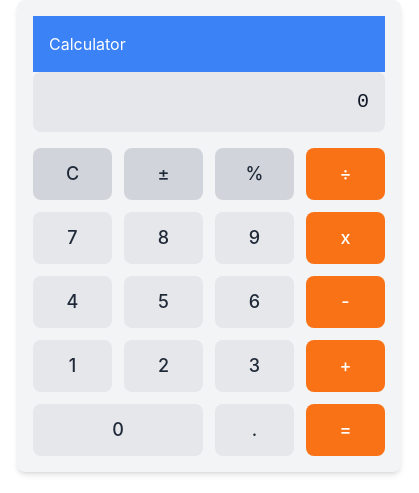
Test: Calculator › should divide two numbers correctly
This screenshot has width=419, height=493.
Step 1. Click the button "8" → (164, 238), box x1=124 y1=212 x2=203 y2=264
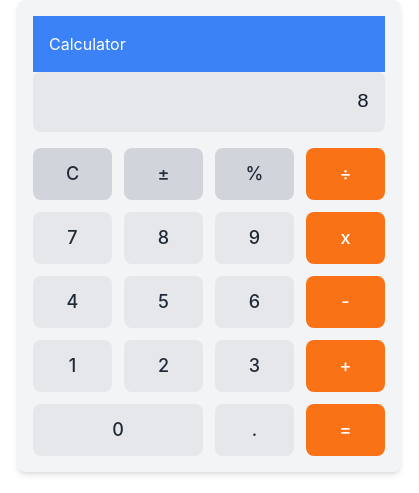
Step 2. Click the button "÷" → (346, 174), box x1=306 y1=148 x2=385 y2=200
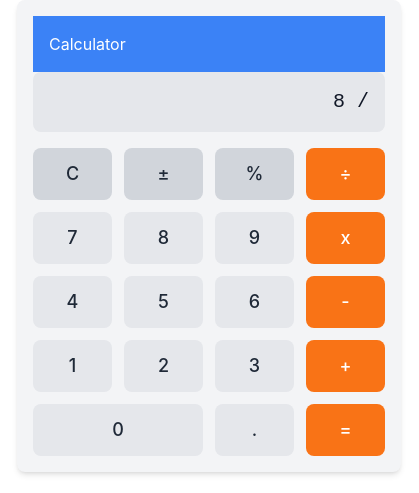
Step 3. Click the button "2" → (164, 366), box x1=124 y1=340 x2=203 y2=392
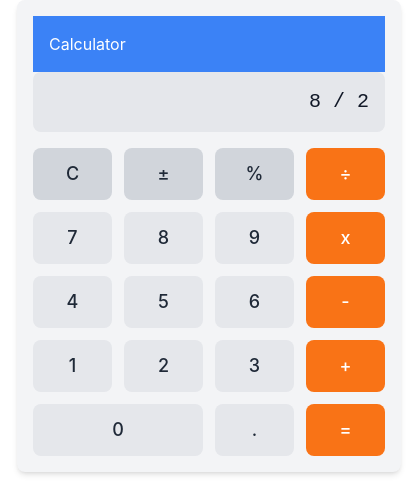
Step 4. Click the button with test id "equalButton" → (346, 430), box x1=306 y1=404 x2=385 y2=456
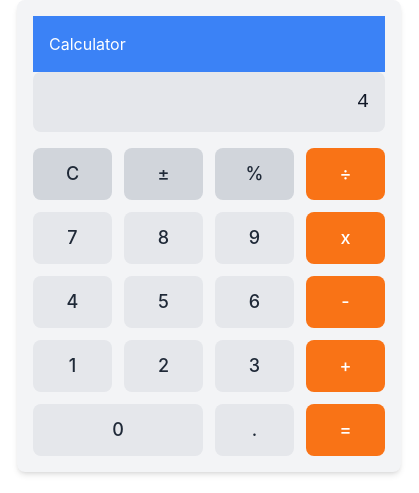
Expected: the text with test id "calcDisplay" reads "4", x1=357 y1=90 x2=369 y2=113
